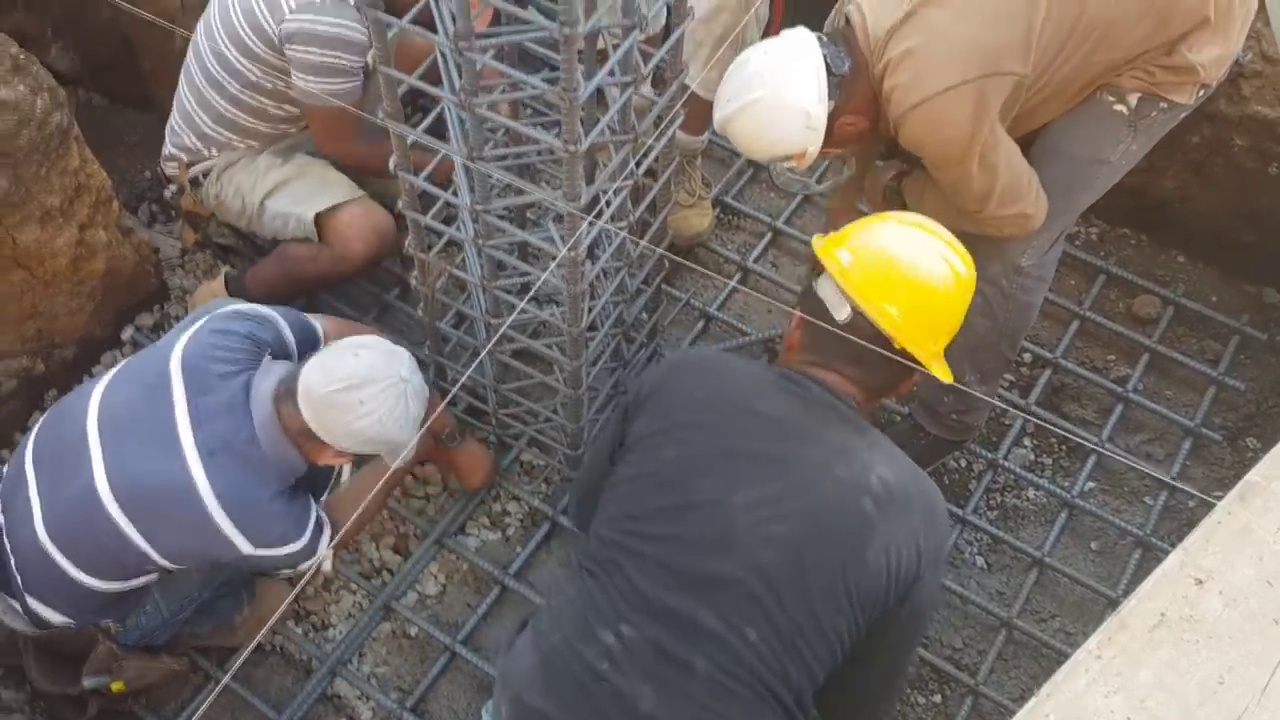helmet: (814, 208, 973, 384), (712, 21, 845, 173)
helmet-off: (285, 336, 444, 500)
helmet-on: (771, 206, 974, 426), (714, 9, 896, 180)
person: (715, 0, 1257, 472), (498, 240, 976, 690), (6, 300, 488, 698), (160, 0, 472, 281)
